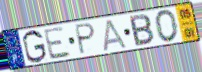A: (102, 18, 128, 53)
B: (128, 13, 156, 48)
E: (42, 25, 73, 61)
G: (21, 29, 48, 65)
O: (154, 8, 180, 44)
P: (74, 22, 97, 57)
